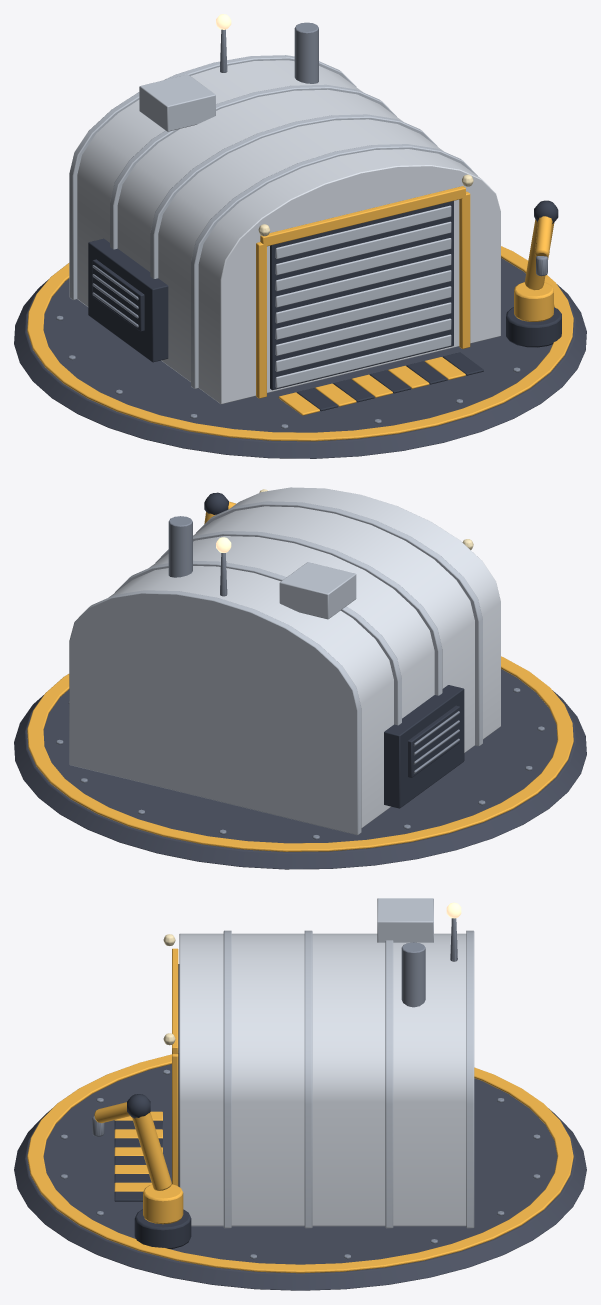
Rendered from werkstatt.fbx.
3 renders of one model, top to bottom at view 1: azimuth 30°, elevation 25°; view 2: azimuth 150°, elevation 25°; view 3: azimuth 270°, elevation 25°, orthographic.
Parts seen in each view (by area): view 1: werkstatt_Koerper, werkstatt_Dreh; view 2: werkstatt_Koerper, werkstatt_Dreh; view 3: werkstatt_Koerper, werkstatt_Dreh.
Part boxes in pixels (x1,y1,x2,y2): werkstatt_Koerper: (14,14,586,458); werkstatt_Dreh: (506,200,561,347); werkstatt_Koerper: (14,487,586,869); werkstatt_Dreh: (204,492,236,523); werkstatt_Koerper: (14,898,586,1290); werkstatt_Dreh: (92,1094,191,1248).
Size of the model in its own units: 7.09 by 3.64 by 7.09.
